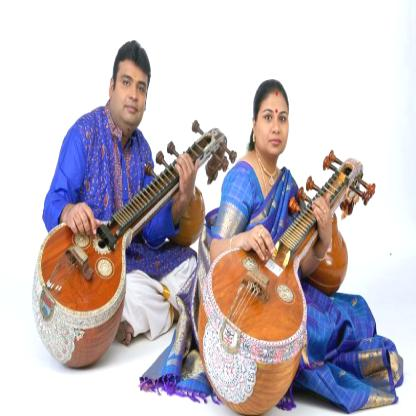Veena: (203, 149, 361, 403), (25, 160, 188, 371)
